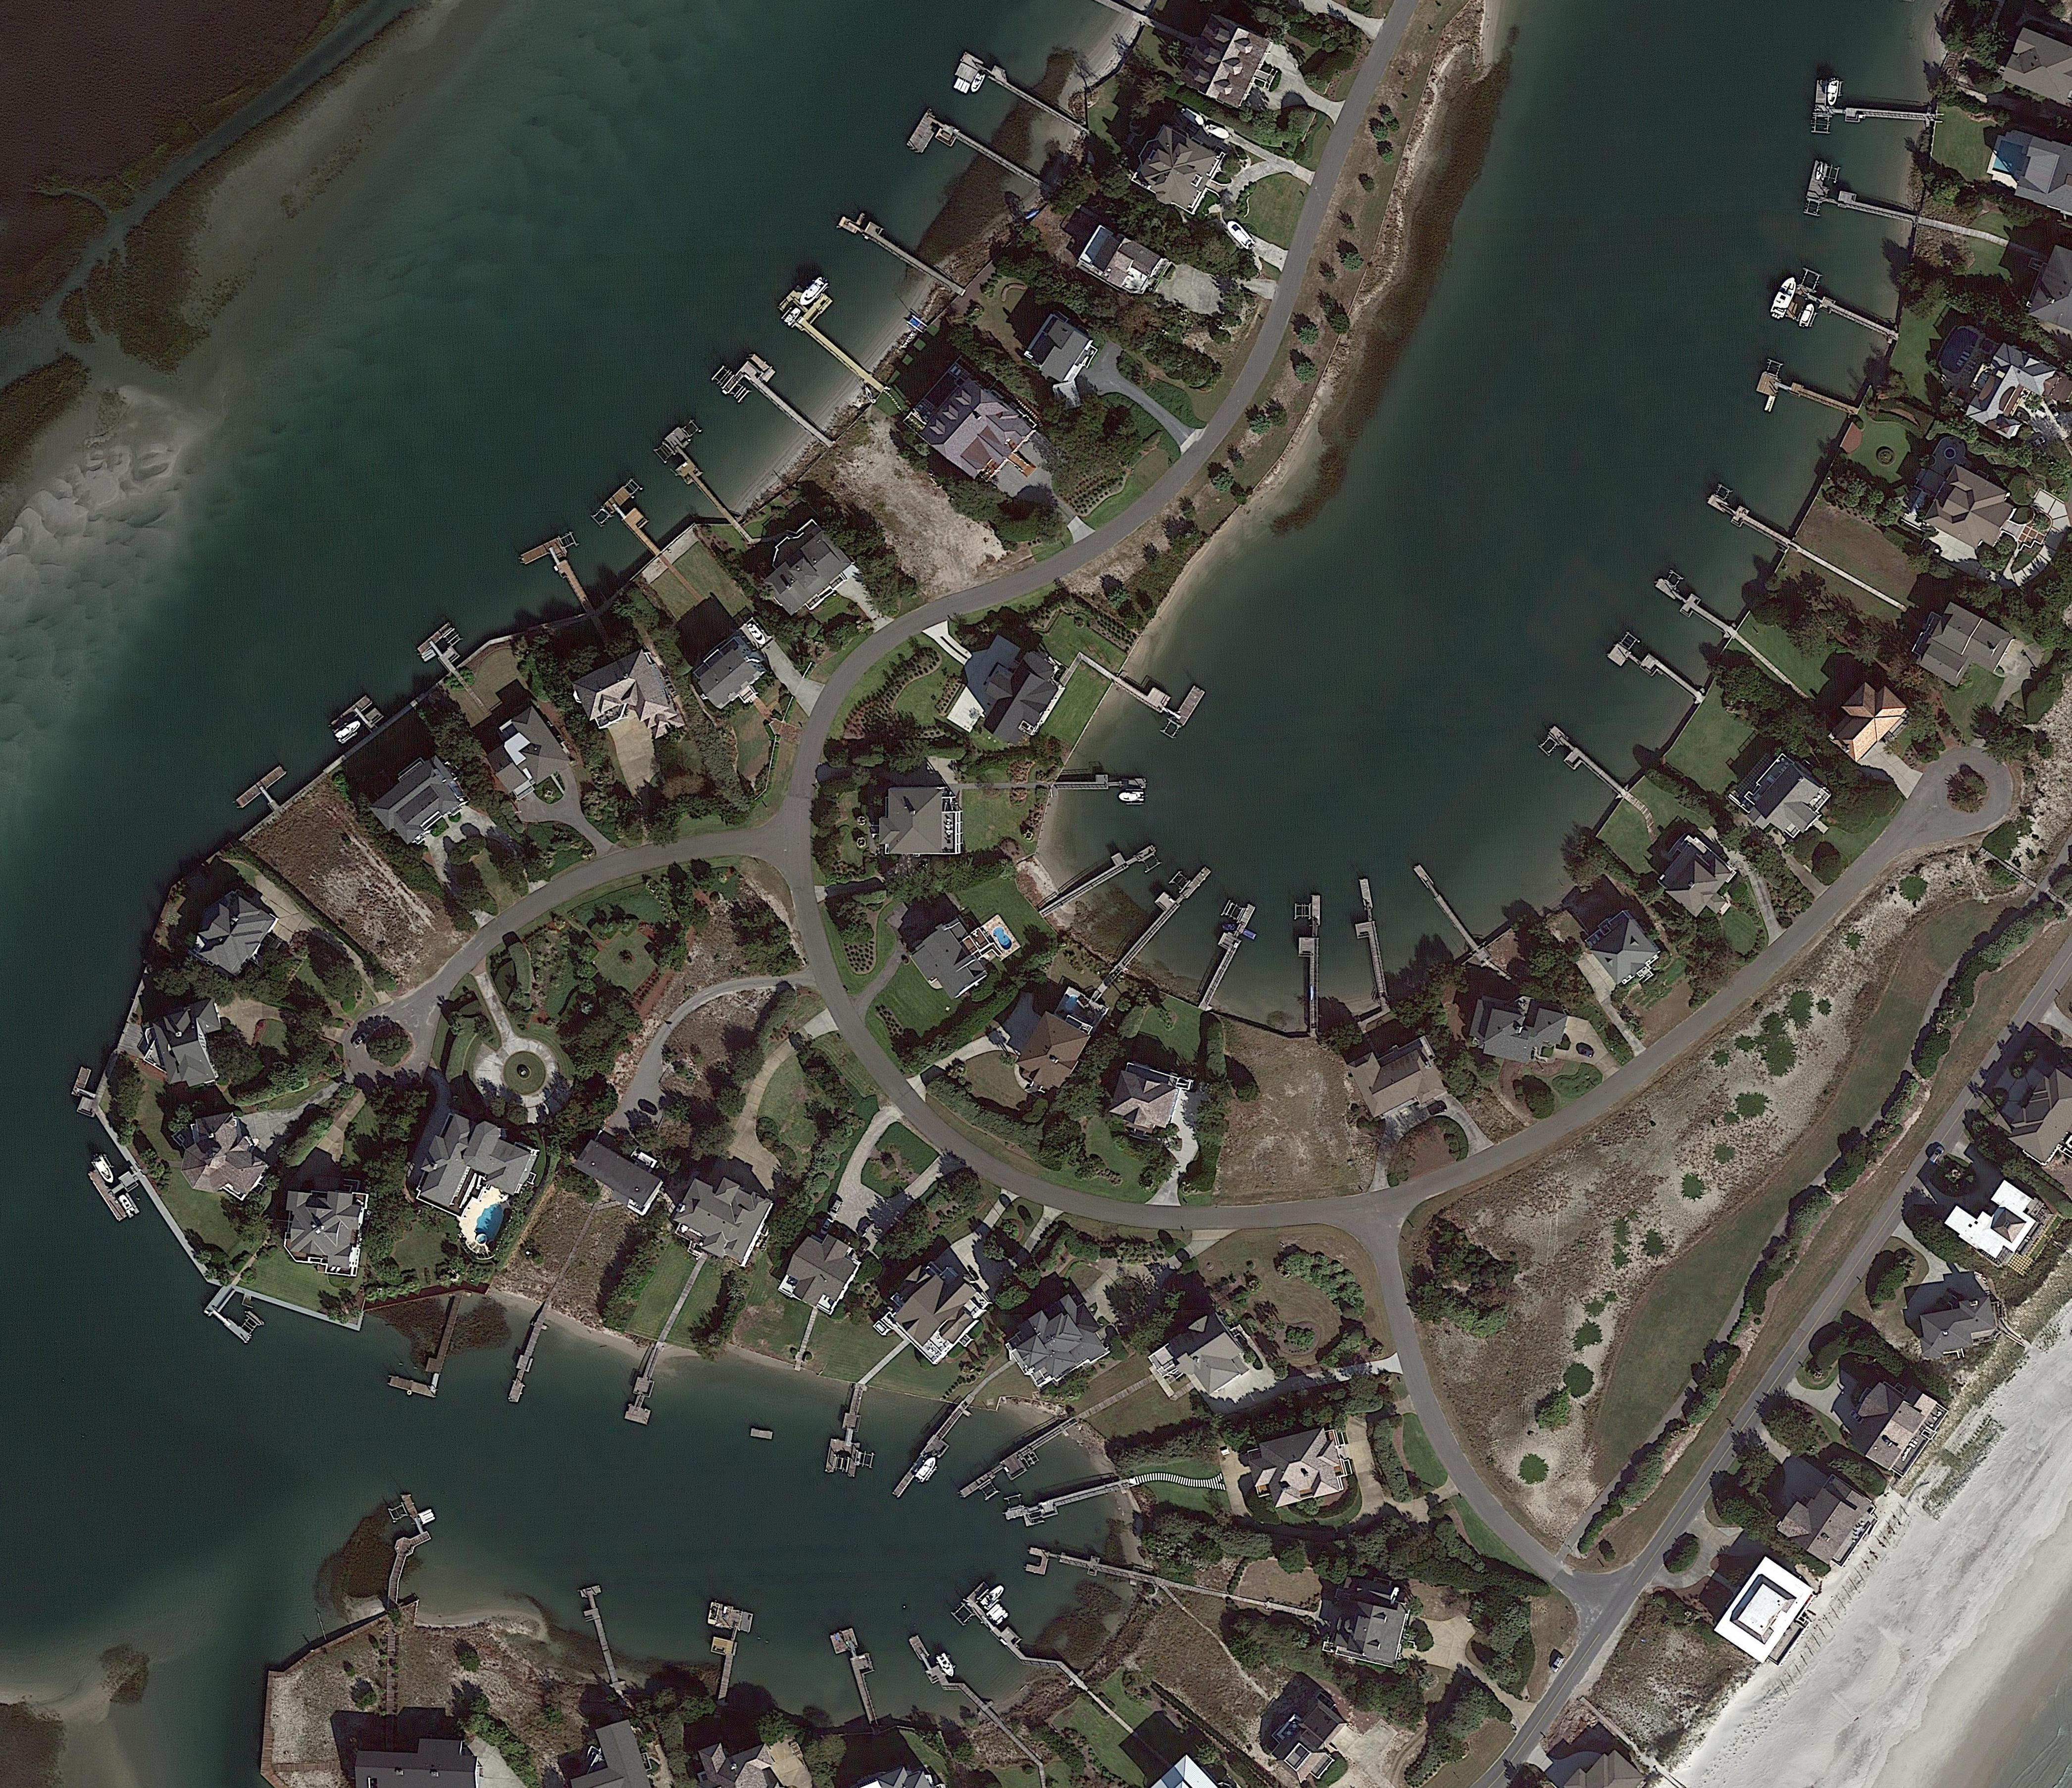harbor: (777, 275, 902, 389), (906, 109, 1041, 213), (722, 352, 839, 463), (960, 1416, 1087, 1510), (1110, 854, 1212, 967), (839, 208, 962, 298), (953, 51, 1073, 137), (655, 426, 754, 528), (1040, 839, 1156, 916), (1781, 285, 1896, 361), (892, 1404, 976, 1506), (1607, 634, 1706, 719), (389, 1288, 462, 1399), (1025, 1541, 1161, 1600), (1806, 160, 1926, 225), (1538, 726, 1628, 809), (1114, 650, 1205, 728), (1750, 372, 1857, 437), (1191, 902, 1258, 1006), (520, 536, 596, 627), (828, 1626, 890, 1732), (1004, 1480, 1131, 1531), (1651, 573, 1739, 643), (964, 1582, 1040, 1663), (1411, 863, 1480, 951), (1813, 79, 1935, 129), (1704, 490, 1794, 555), (698, 1605, 754, 1703), (504, 1302, 555, 1406), (578, 1585, 627, 1691), (604, 486, 671, 560), (1348, 879, 1388, 999), (825, 1381, 874, 1476), (624, 1341, 673, 1425), (203, 1286, 264, 1346), (1295, 897, 1321, 1031), (416, 631, 465, 682), (909, 1633, 950, 1691), (234, 765, 285, 810), (86, 1168, 129, 1223), (328, 694, 374, 735), (960, 1684, 1003, 1726), (1059, 773, 1145, 791), (400, 1492, 428, 1536), (70, 1066, 104, 1103)
ship: (465, 1200, 509, 1247), (1767, 273, 1801, 321), (796, 273, 832, 308), (1225, 217, 1258, 252), (88, 1154, 118, 1186), (913, 1453, 941, 1483), (333, 717, 365, 743), (745, 620, 768, 648), (116, 1193, 137, 1219), (1799, 303, 1818, 329), (782, 305, 803, 326), (1825, 79, 1839, 106), (969, 72, 985, 93), (1117, 791, 1147, 802)
